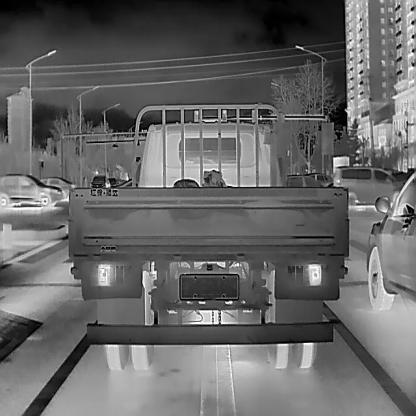car: (67, 102, 348, 370), (366, 171, 416, 309), (333, 165, 401, 205), (0, 172, 63, 207), (38, 176, 77, 197), (286, 174, 324, 186), (306, 172, 334, 186), (91, 174, 109, 187), (108, 177, 116, 186)
